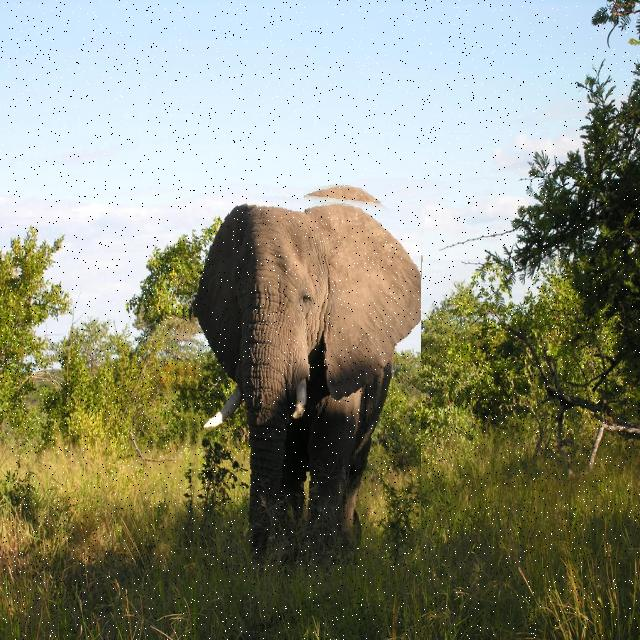elephant: (178, 181, 421, 565)
